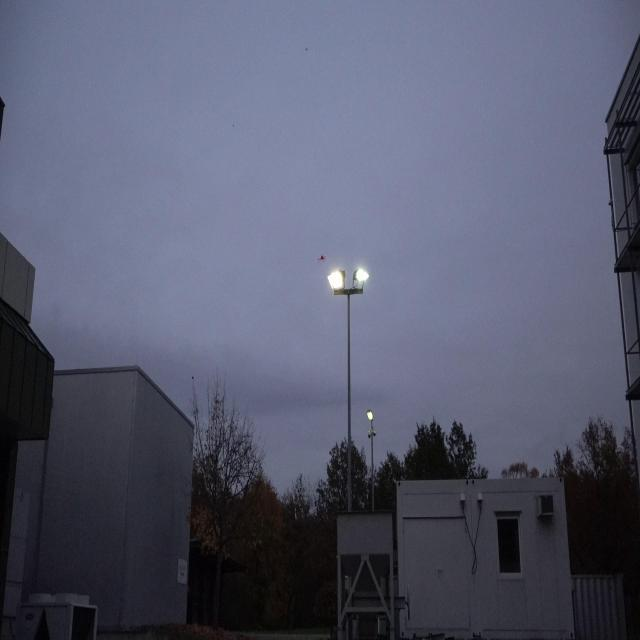drone: (314, 244, 326, 266)
